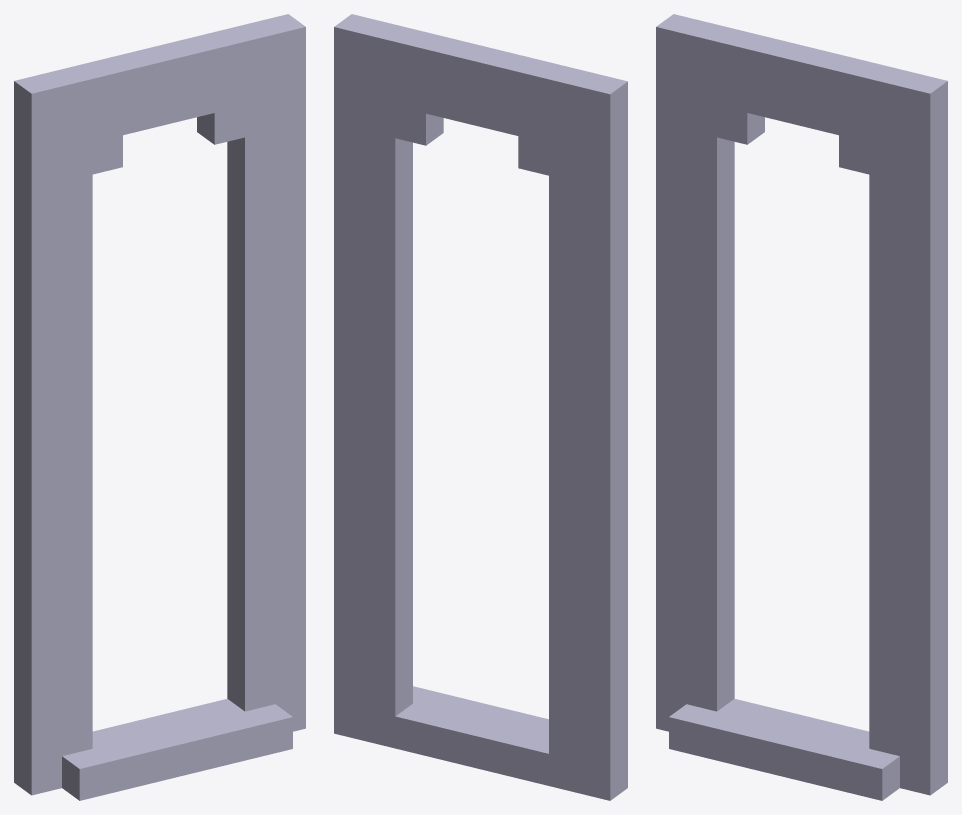
File: Arch1.obj
3 renders of one model, left to right at view 1: azimuth 30°, elevation 25°; view 2: azimuth 150°, elevation 25°; view 3: azimuth 330°, elevation 25°, orthographic.
Visible parts, largest first — view 1: BuildingPieces.006; view 2: BuildingPieces.006; view 3: BuildingPieces.006.
Boxes of the visible parts, x1=… form: BuildingPieces.006: x1=14, y1=14, x2=305, y2=800; BuildingPieces.006: x1=334, y1=14, x2=627, y2=800; BuildingPieces.006: x1=656, y1=14, x2=947, y2=800.
Bounding box in the file's own units: 0.9 × 2.2 × 0.2.
